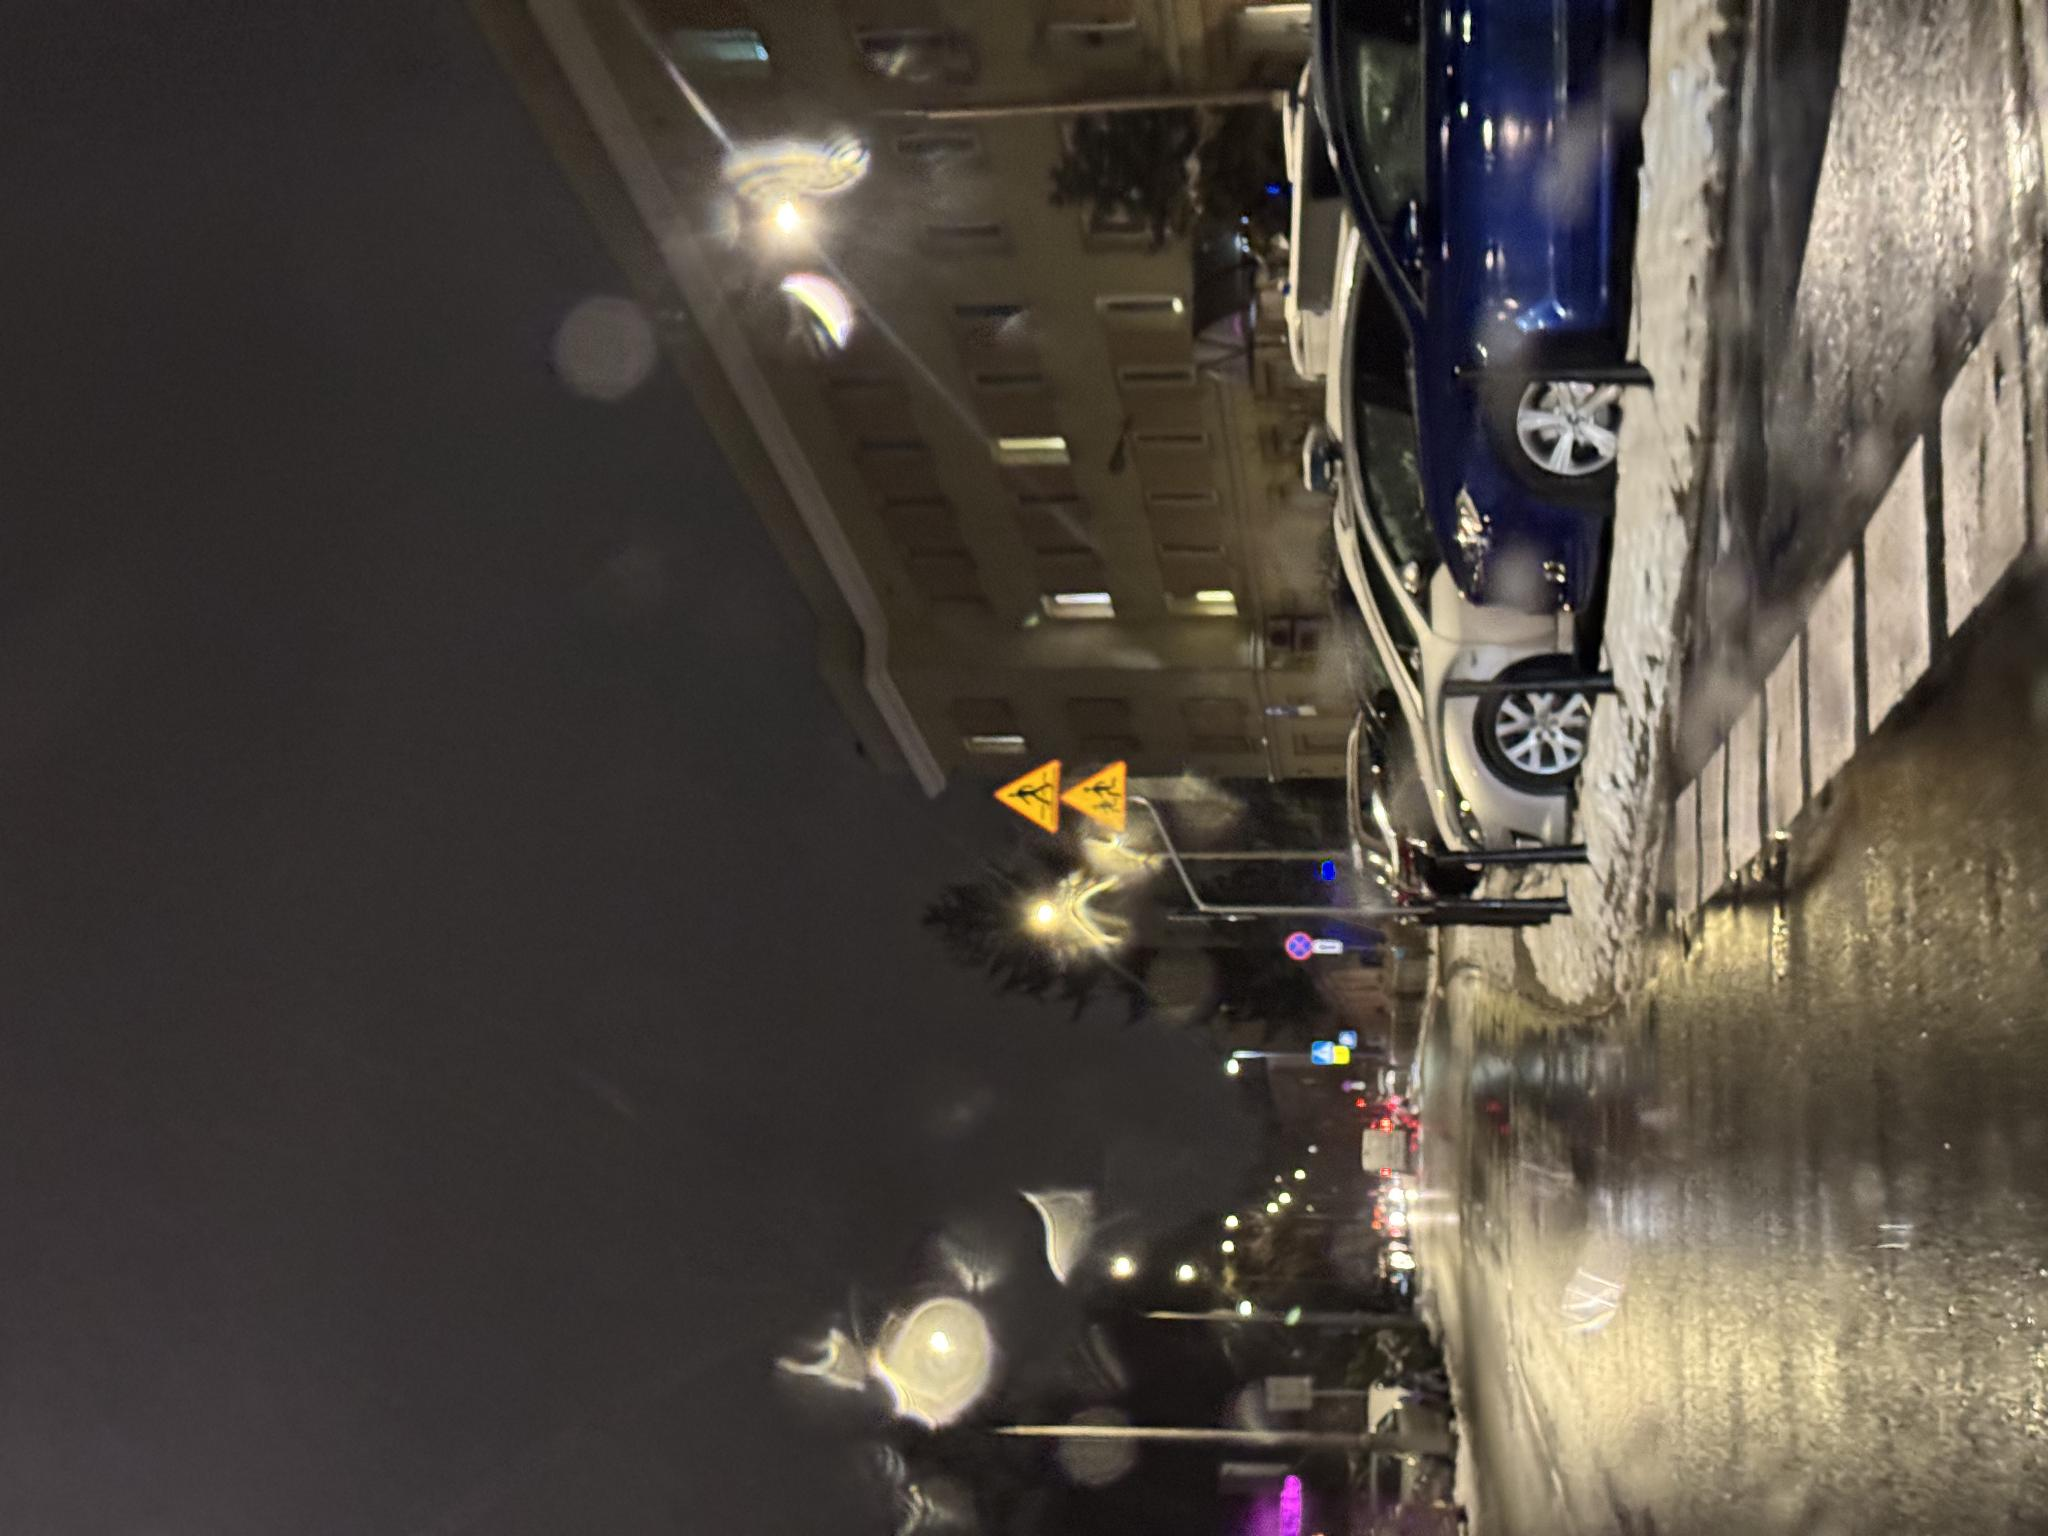information: (472, 1312, 495, 1333), (487, 1341, 505, 1355)
other: (582, 1313, 597, 1344), (472, 1334, 489, 1347)
prohibitory: (576, 1284, 605, 1313)
warning: (703, 994, 777, 1060), (705, 1062, 774, 1128)
